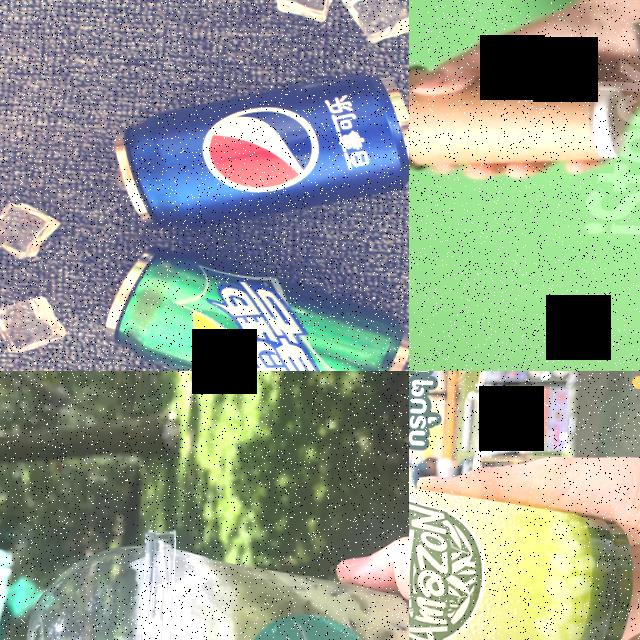can: (110, 53, 409, 237), (110, 243, 409, 371)
cup: (17, 520, 409, 640), (409, 444, 640, 640), (409, 56, 627, 182)
